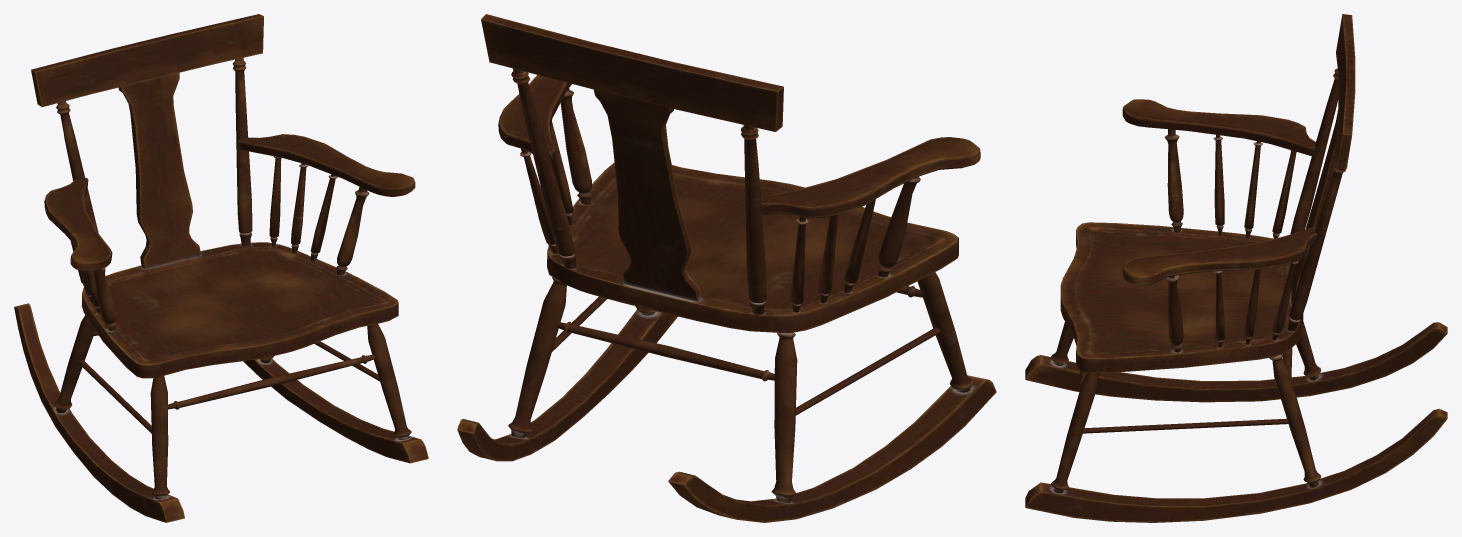
Rendered from ph-rockingchair-01.glb.
3 renders of one model, left to right at view 1: azimuth 30°, elevation 25°; view 2: azimuth 150°, elevation 25°; view 3: azimuth 270°, elevation 25°, orthographic. The views are drawn at different scales.
Parts seen in each view (by area): view 1: Rockingchair_01; view 2: Rockingchair_01; view 3: Rockingchair_01.
Boxes of the visible parts, x1,y1,x2,y2 form: Rockingchair_01: (14,14,428,522); Rockingchair_01: (457,14,996,522); Rockingchair_01: (1025,14,1447,522).
Bounding box in the file's own units: 1 × 1 × 1.
Materials: 1 (1 with a texture image).
